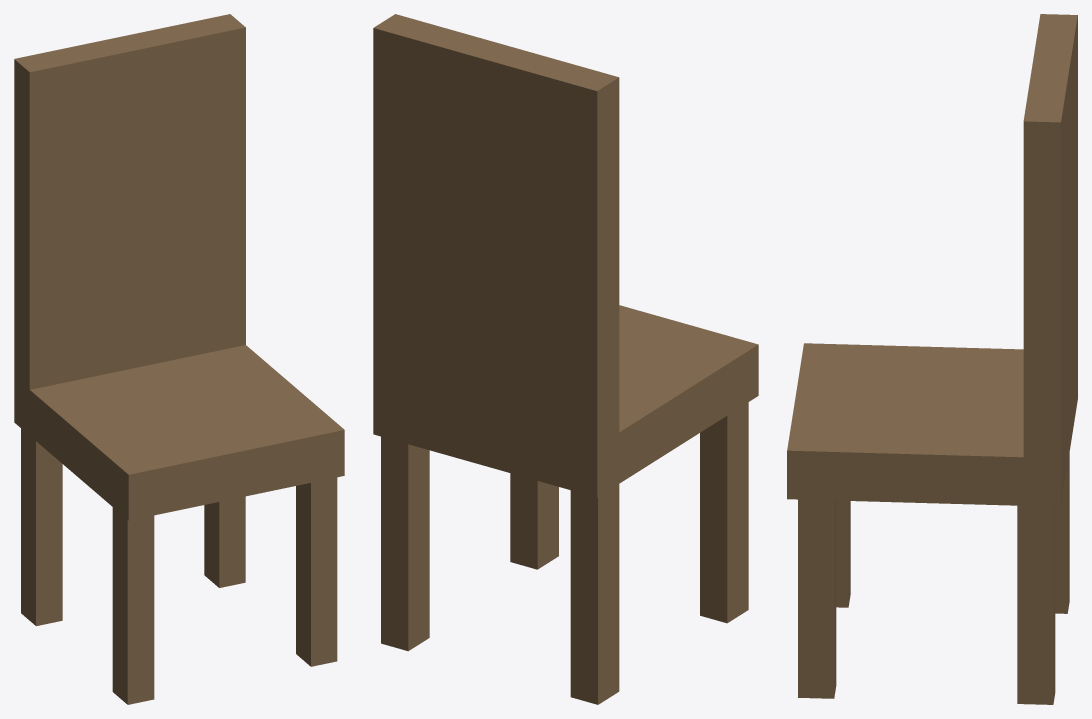
Rendered from Chair.fbx.
The picture shows the model from 3 angles, left to right: view 1: azimuth 30°, elevation 25°; view 2: azimuth 150°, elevation 25°; view 3: azimuth 270°, elevation 25°; orthographic projection. The views are drawn at different scales.
Visible parts, largest first — view 1: Chair_Regular; view 2: Chair_Regular; view 3: Chair_Regular.
Part boxes in pixels (x1,y1,x2,y2): Chair_Regular: (14, 14, 344, 704); Chair_Regular: (373, 14, 758, 704); Chair_Regular: (787, 14, 1077, 704).
Size of the model in its own units: 0.729 by 1.73 by 0.7781.
